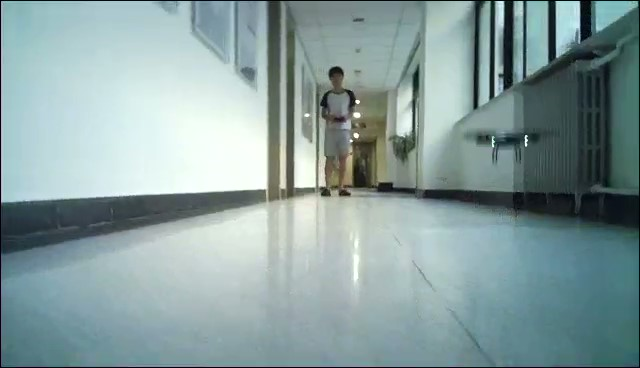drone: (457, 125, 561, 167)
person: (319, 66, 358, 197)
